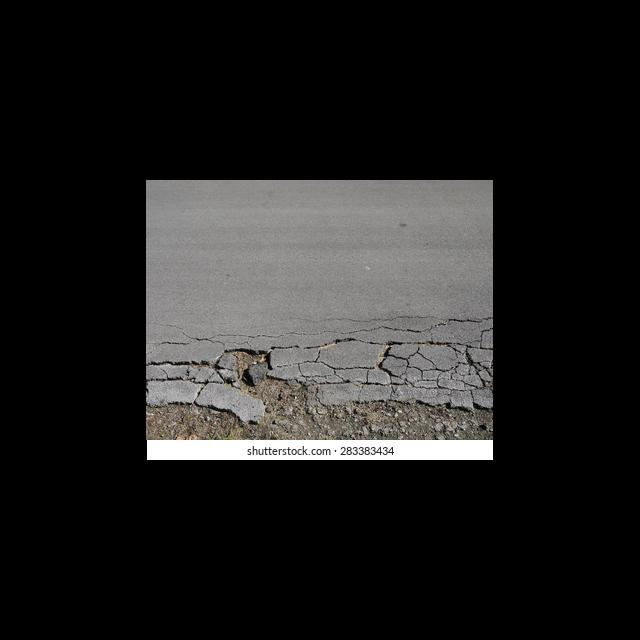retak_memanjang: (146, 306, 494, 411)
